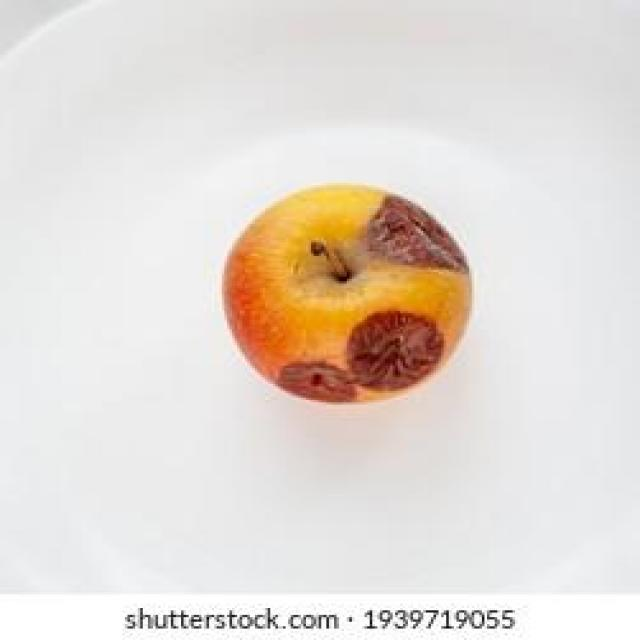Rotten: (224, 174, 477, 413)
